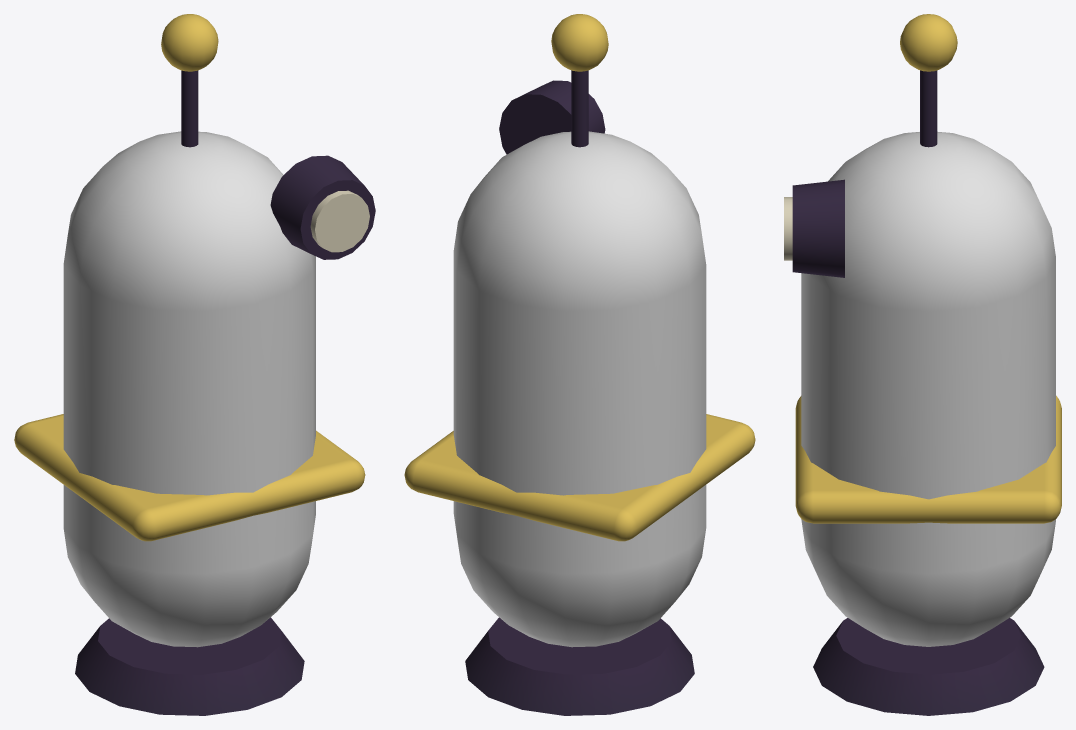
File: agent-research.glb
3 views of the same model, side by side, from view 1: azimuth 30°, elevation 25°; view 2: azimuth 150°, elevation 25°; view 3: azimuth 270°, elevation 25° (orthographic).
Parts seen in each view (by area): view 1: agentResearch; view 2: agentResearch; view 3: agentResearch.
Part boxes in pixels (x1=…): agentResearch: x1=14, y1=14, x2=375, y2=715; agentResearch: x1=404, y1=14, x2=755, y2=715; agentResearch: x1=784, y1=14, x2=1061, y2=715.
Size of the model in its own units: 0.475 by 1.24 by 0.48.
